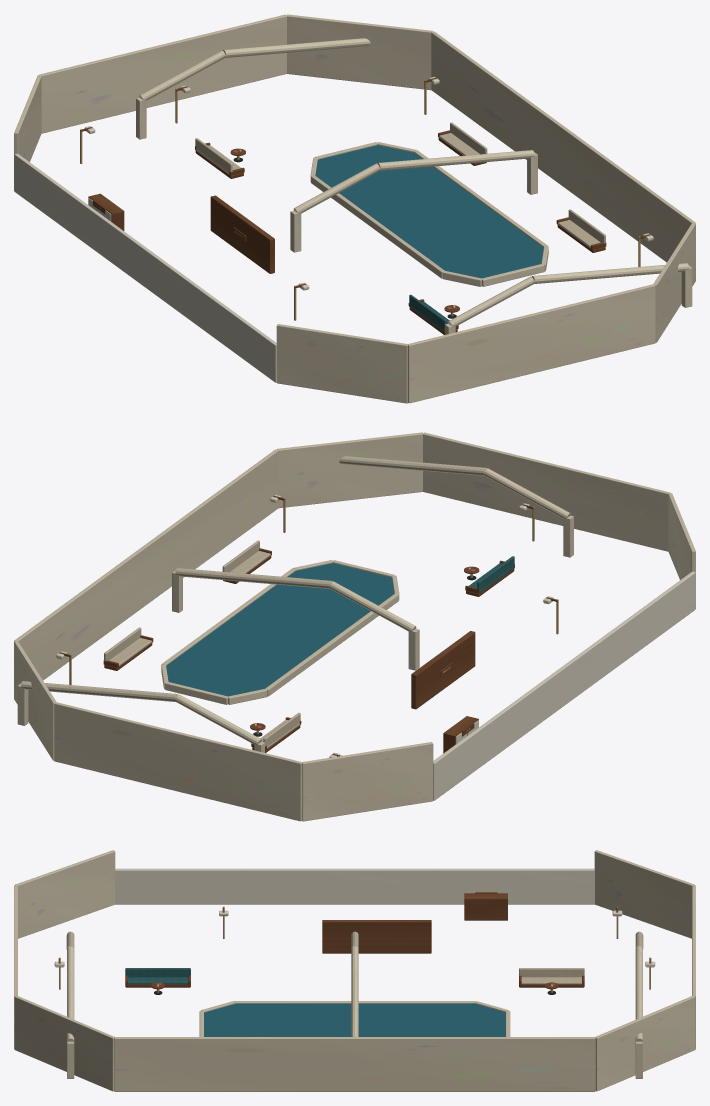
Rendered from SOL_D08_directory_04_source001.glb.
3 views of the same model, one above another, from view 1: azimuth 30°, elevation 25°; view 2: azimuth 150°, elevation 25°; view 3: azimuth 270°, elevation 25° (orthographic). The views are drawn at different scales.
Parts seen in each view (by area): view 1: D08_directory_04__grotto_shell3, D08_directory_04__grotto_shell5, D08_directory_04__reflecting_water, D08_directory_04__grotto_shell1, D08_directory_04__grotto_shell2, D08_directory_04__grotto_shell6, D08_directory_04__entry_b, D08_directory_04__entry_a, D08_directory_04__opaque_arrival_turn, D08_directory_04__grotto_shell4, D08_directory_04__grotto_shell0, D08_directory_04__reflecting_rim6 (+8 smaller); view 2: D08_directory_04__grotto_shell3, D08_directory_04__grotto_shell1, D08_directory_04__reflecting_water, D08_directory_04__grotto_shell5, D08_directory_04__grotto_shell4, D08_directory_04__grotto_shell0, D08_directory_04__entry_b, D08_directory_04__entry_a, D08_directory_04__opaque_arrival_turn, D08_directory_04__grotto_shell2, D08_directory_04__grotto_shell6, D08_directory_04__reflecting_rim6 (+8 smaller); view 3: D08_directory_04__grotto_shell3, D08_directory_04__entry_a, D08_directory_04__reflecting_water, D08_directory_04__entry_b, D08_directory_04__grotto_shell6, D08_directory_04__grotto_shell0, D08_directory_04__grotto_shell2, D08_directory_04__grotto_shell4, D08_directory_04__opaque_arrival_turn, D08_directory_04__care_body, D08_directory_04__arch_rise_b1, D08_directory_04__reflecting_rim6 (+8 smaller).
Boxes of the visible parts, x1,y1,x2,y2 form: D08_directory_04__grotto_shell3: (431,31,695,262); D08_directory_04__grotto_shell5: (408,284,655,403); D08_directory_04__reflecting_water: (315,145,543,278); D08_directory_04__grotto_shell1: (39,14,286,133); D08_directory_04__grotto_shell2: (286,14,432,90); D08_directory_04__grotto_shell6: (276,324,407,403); D08_directory_04__entry_b: (14,153,173,305); D08_directory_04__entry_a: (119,230,276,382); D08_directory_04__opaque_arrival_turn: (210,195,274,273); D08_directory_04__grotto_shell4: (653,223,695,342); D08_directory_04__grotto_shell0: (14,75,41,190); D08_directory_04__reflecting_rim6: (311,175,444,278); D08_directory_04__grotto_shell3: (14,449,278,680); D08_directory_04__grotto_shell1: (54,702,301,821); D08_directory_04__reflecting_water: (166,563,394,696); D08_directory_04__grotto_shell5: (423,432,670,551); D08_directory_04__grotto_shell4: (277,432,423,508); D08_directory_04__grotto_shell0: (302,742,433,821); D08_directory_04__entry_b: (433,647,591,800); D08_directory_04__entry_a: (539,571,695,685); D08_directory_04__opaque_arrival_turn: (411,631,475,709); D08_directory_04__grotto_shell2: (14,641,56,760); D08_directory_04__grotto_shell6: (668,493,695,608); D08_directory_04__reflecting_rim6: (265,593,398,696); D08_directory_04__grotto_shell3: (114,1037,595,1091); D08_directory_04__entry_a: (115,868,403,904); D08_directory_04__reflecting_water: (204,1003,505,1036); D08_directory_04__entry_b: (307,868,594,904); D08_directory_04__grotto_shell6: (15,850,115,938); D08_directory_04__grotto_shell0: (594,850,694,938); D08_directory_04__grotto_shell2: (595,996,695,1091); D08_directory_04__grotto_shell4: (14,996,114,1091); D08_directory_04__opaque_arrival_turn: (322,920,431,953); D08_directory_04__care_body: (464,893,507,920); D08_directory_04__arch_rise_b1: (351,946,358,1036); D08_directory_04__reflecting_rim6: (234,1001,475,1003).
Bounding box in the file's own units: 40.86 × 6.24 × 62.36.
Materials: 9 (8 with a texture image).
